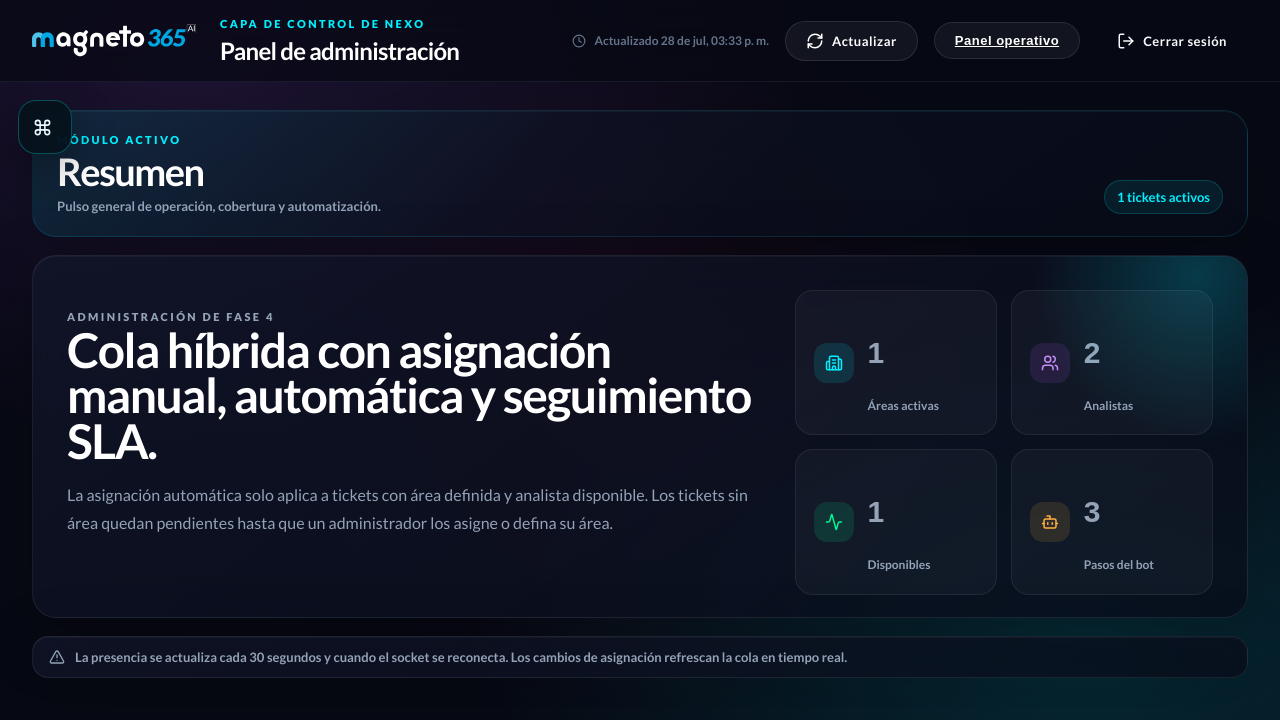
it: AdminPanel › selects the Áreas module from the control map
Click the button named "abrir comandos". click: (45, 127)
box: top-left (18, 100), bottom-right (72, 154)
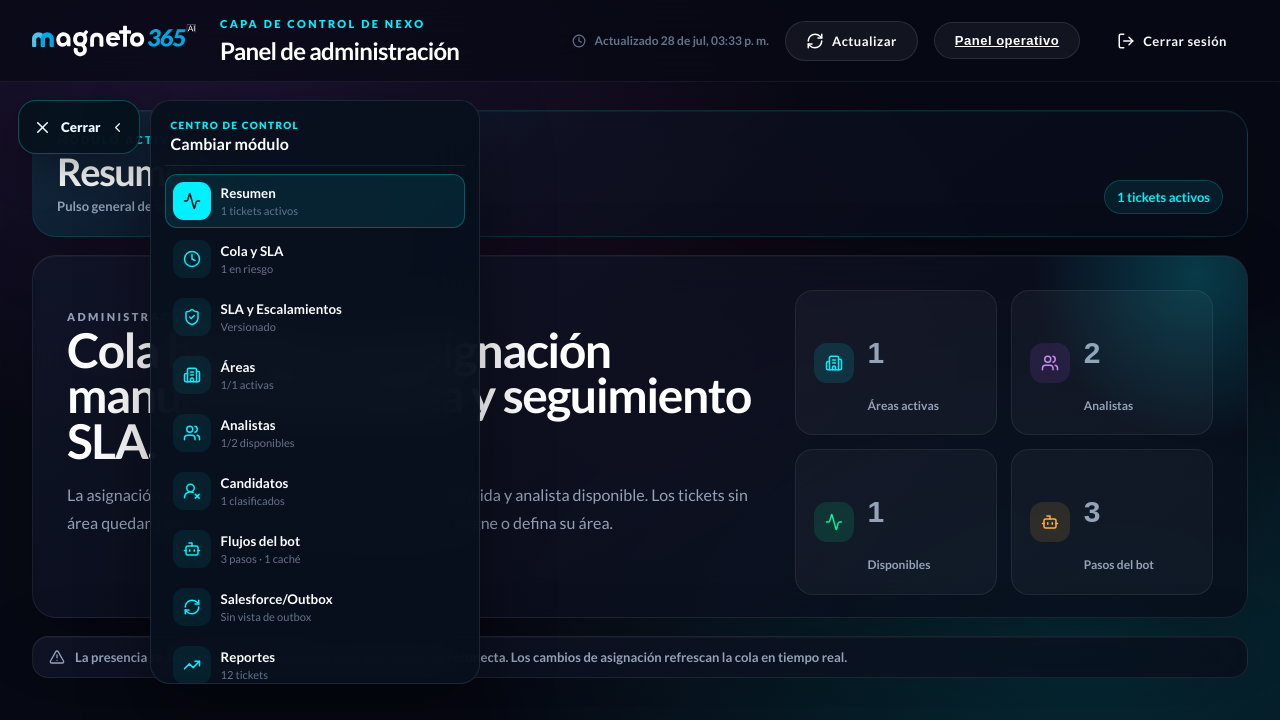
Click the button "Áreas 1/1 activas". click: (192, 375)
box: top-left (165, 348), bottom-right (465, 402)
(page scrolled)
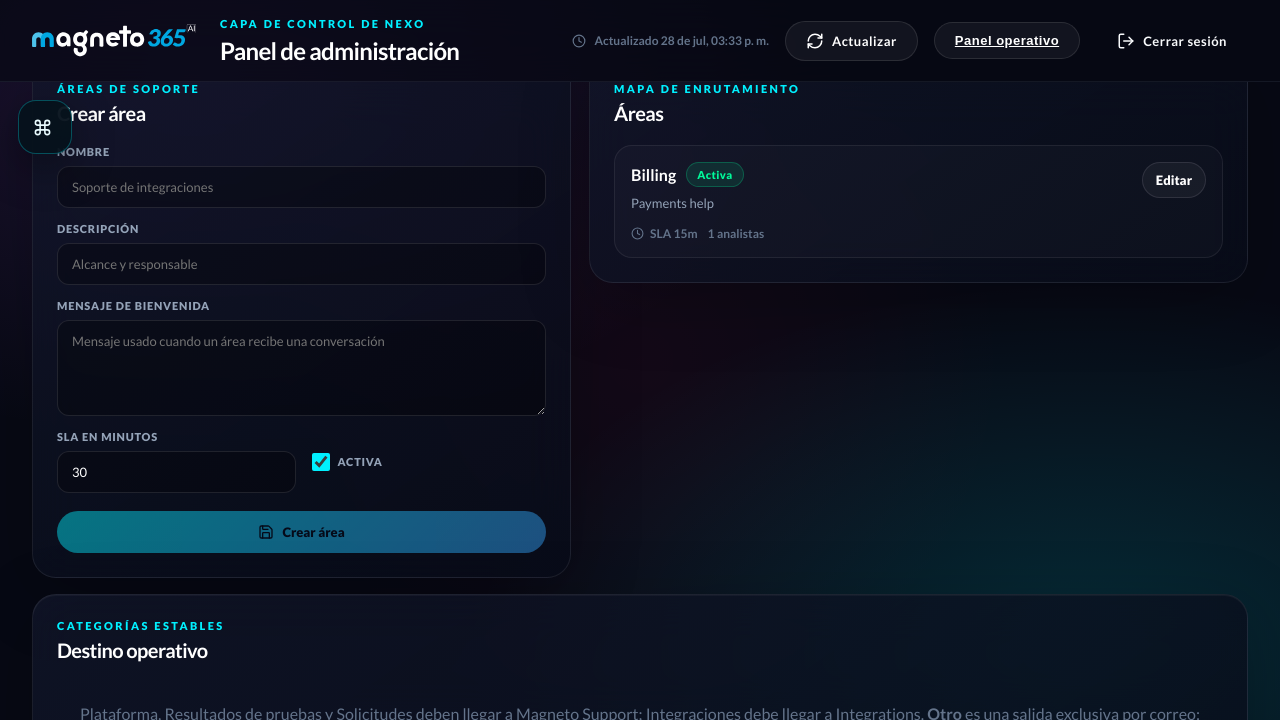
Expected: the element with id "admin-areas" is shown
Expected: the number of elements with class "admin-section-anchor" is 1
